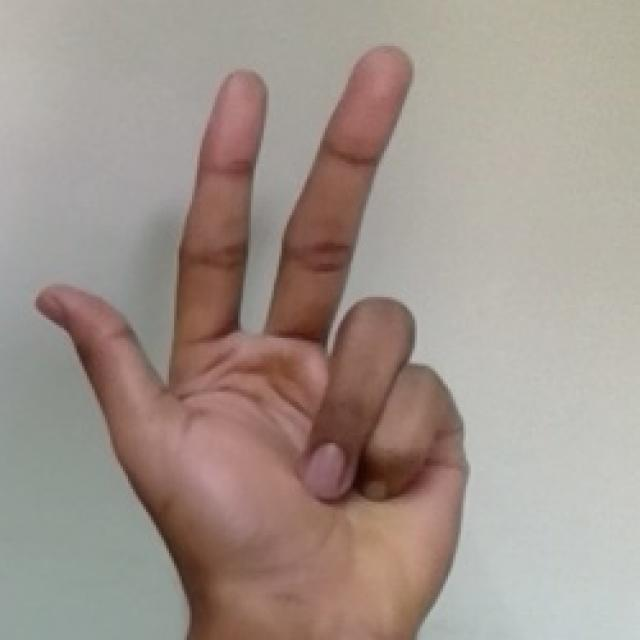Numeric-3: (33, 44, 474, 636)
